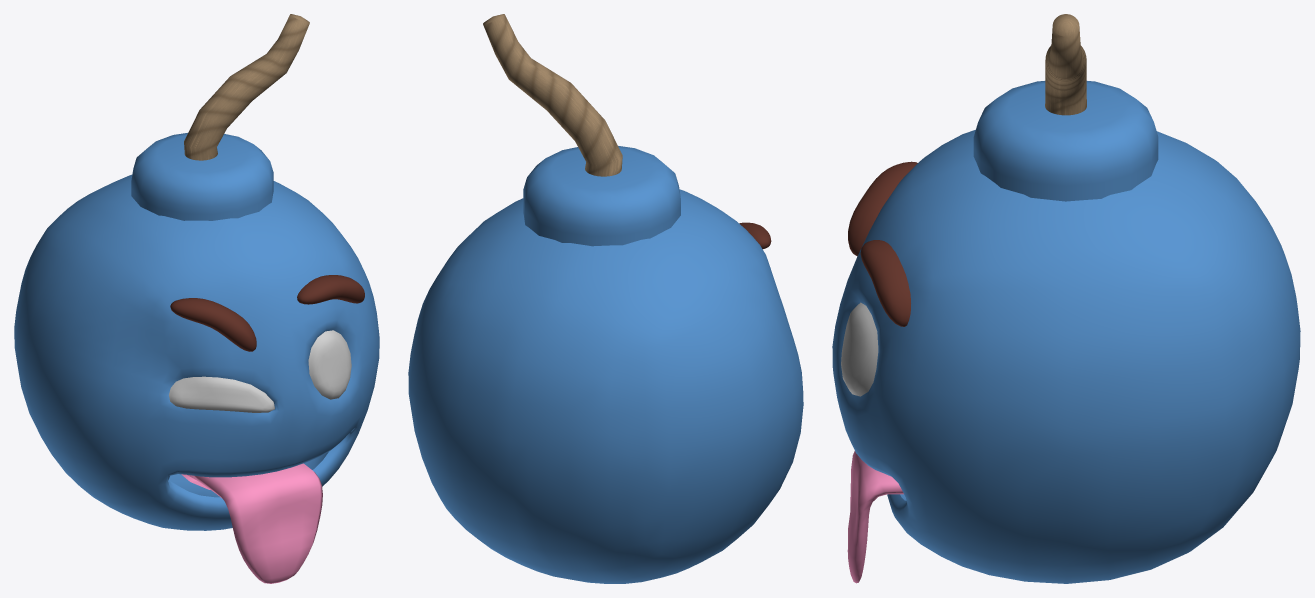
Rendered from Bomb 01.fbx.
The picture shows the model from 3 angles, left to right: view 1: azimuth 30°, elevation 25°; view 2: azimuth 150°, elevation 25°; view 3: azimuth 270°, elevation 25°; orthographic projection. The views are drawn at different scales.
Visible parts, largest first — view 1: Wink, Cylinder_11, Sphere_11; view 2: Wink, Cylinder_11, Sphere_11; view 3: Wink, Cylinder_11, Sphere_11.
Boxes of the visible parts, left/top/right/bottom form: Wink: left=14, top=174, right=379, bottom=583; Cylinder_11: left=131, top=133, right=273, bottom=220; Sphere_11: left=184, top=14, right=309, bottom=160; Wink: left=408, top=189, right=803, bottom=583; Cylinder_11: left=523, top=146, right=680, bottom=246; Sphere_11: left=483, top=14, right=622, bottom=176; Wink: left=832, top=129, right=1300, bottom=583; Cylinder_11: left=973, top=81, right=1158, bottom=201; Sphere_11: left=1045, top=14, right=1086, bottom=115.
Size of the model in its own units: 157 by 236 by 160.
